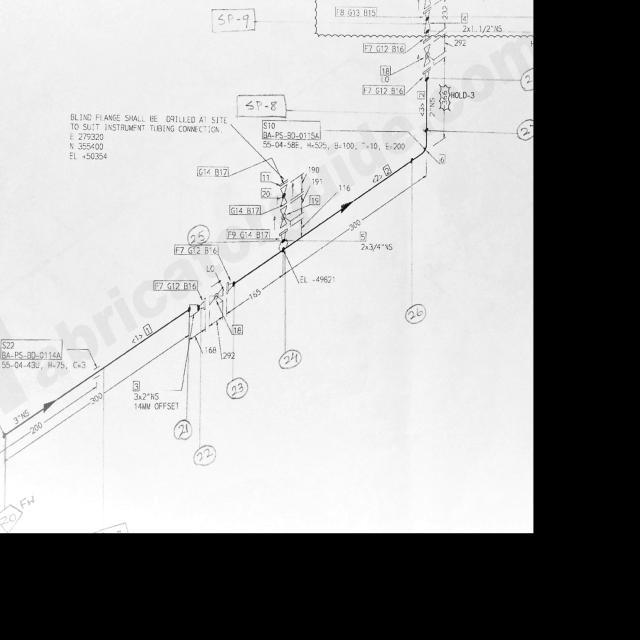Item number: (0, 338, 64, 361), (261, 119, 322, 141), (152, 278, 199, 293), (362, 41, 407, 56), (174, 243, 220, 257), (225, 227, 271, 241), (334, 5, 378, 19), (361, 84, 407, 97), (228, 203, 262, 217), (196, 165, 230, 178), (141, 321, 154, 338), (381, 162, 394, 178), (259, 186, 273, 199), (231, 323, 244, 336), (380, 63, 391, 78), (459, 11, 470, 26), (259, 171, 272, 183), (416, 88, 427, 101), (359, 230, 368, 243), (438, 153, 447, 165), (132, 379, 140, 392)
Measrement: (5, 328, 189, 466), (283, 168, 428, 282), (5, 381, 98, 455), (299, 182, 352, 240), (226, 269, 283, 319), (207, 314, 238, 365), (133, 391, 182, 412), (299, 176, 323, 215), (189, 326, 218, 357), (440, 55, 450, 143), (442, 28, 468, 56), (299, 164, 321, 194), (12, 407, 32, 427), (463, 25, 504, 34), (361, 242, 394, 252), (441, 0, 449, 30), (428, 97, 436, 119)
Pipeline: (233, 81, 431, 290), (4, 308, 188, 442)
Symbol: (409, 128, 431, 165), (423, 0, 433, 44), (189, 298, 207, 319), (278, 177, 290, 208), (208, 285, 225, 306), (40, 398, 58, 415), (278, 204, 290, 229), (340, 198, 355, 215), (423, 44, 432, 68), (226, 279, 236, 297), (422, 67, 433, 81), (279, 227, 288, 244)
Weld number: (191, 442, 217, 471), (403, 301, 429, 327), (276, 347, 303, 372), (225, 376, 250, 401), (172, 416, 194, 444), (515, 115, 534, 143), (520, 66, 534, 95)
other: (66, 106, 229, 162), (263, 139, 407, 151), (2, 360, 88, 371), (300, 274, 336, 284)
